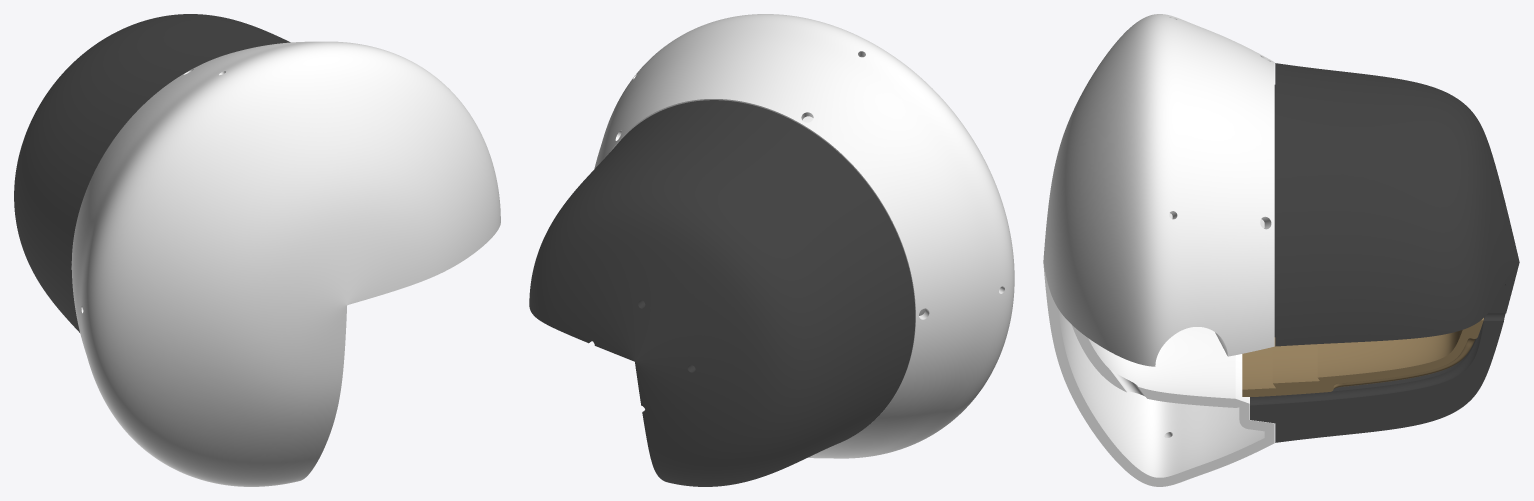
The model's file is NutHatchHVAC-v1.glb.
3 views of the same model, side by side, from view 1: azimuth 30°, elevation 25°; view 2: azimuth 150°, elevation 25°; view 3: azimuth 270°, elevation 25° (orthographic). The views are drawn at different scales.
Parts seen in each view (by area): view 1: mesh_0_2, mesh_0; view 2: mesh_0, mesh_0_2; view 3: mesh_0_2, mesh_0, mesh_0_1.
Part boxes in pixels (x1=…): mesh_0_2: x1=71, y1=41, x2=500, y2=486; mesh_0: x1=14, y1=14, x2=290, y2=332; mesh_0: x1=529, y1=100, x2=915, y2=486; mesh_0_2: x1=594, y1=14, x2=1014, y2=458; mesh_0_2: x1=1043, y1=14, x2=1274, y2=486; mesh_0: x1=1250, y1=63, x2=1519, y2=442; mesh_0_1: x1=1242, y1=318, x2=1483, y2=396.
Size of the model in its own units: 7.35 by 7.36 by 7.06.
